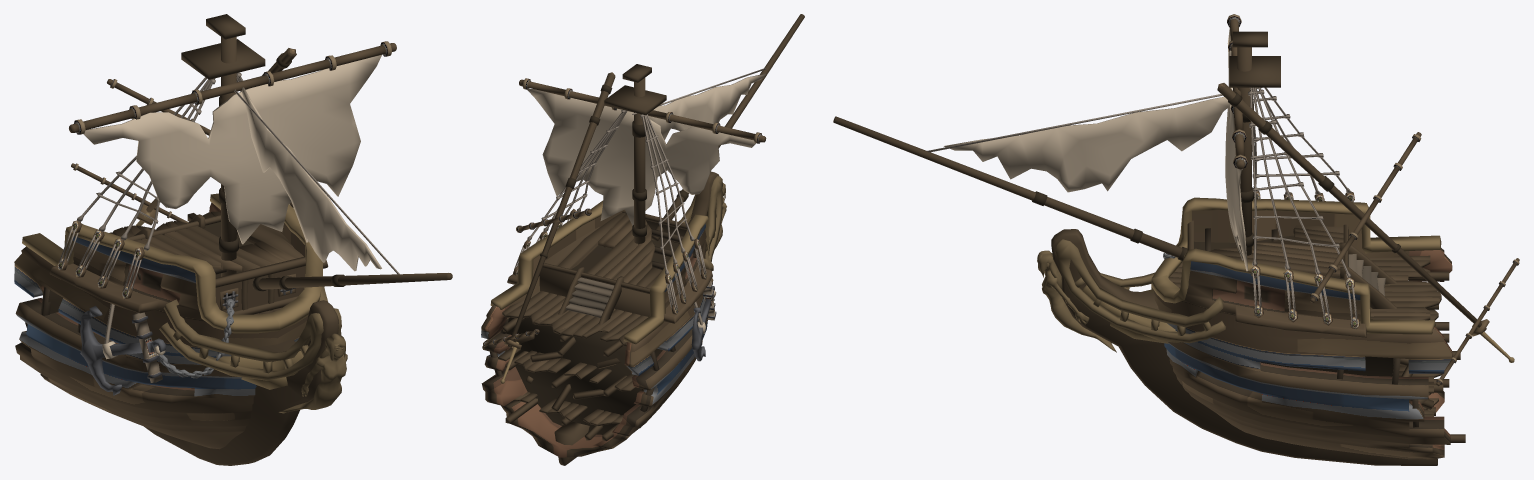
The model's file is SM_Prop_Shipwreck_03.glb.
The picture shows the model from 3 angles, left to right: view 1: azimuth 30°, elevation 25°; view 2: azimuth 150°, elevation 25°; view 3: azimuth 270°, elevation 25°; orthographic projection. The views are drawn at different scales.
Visible parts, largest first — view 1: SM_Prop_Shipwreck_03_part00, SM_Prop_Shipwreck_03_part01; view 2: SM_Prop_Shipwreck_03_part00, SM_Prop_Shipwreck_03_part01; view 3: SM_Prop_Shipwreck_03_part00, SM_Prop_Shipwreck_03_part01.
Part boxes in pixels (box(x1,y1,x2,y2)): SM_Prop_Shipwreck_03_part00: box(14, 14, 452, 465); SM_Prop_Shipwreck_03_part01: box(83, 55, 381, 271); SM_Prop_Shipwreck_03_part00: box(481, 14, 804, 465); SM_Prop_Shipwreck_03_part01: box(527, 73, 766, 225); SM_Prop_Shipwreck_03_part00: box(833, 14, 1519, 465); SM_Prop_Shipwreck_03_part01: box(944, 27, 1248, 271).
Size of the model in its own units: 12.03 by 16.15 by 23.46.
1 material, 1 textured.
